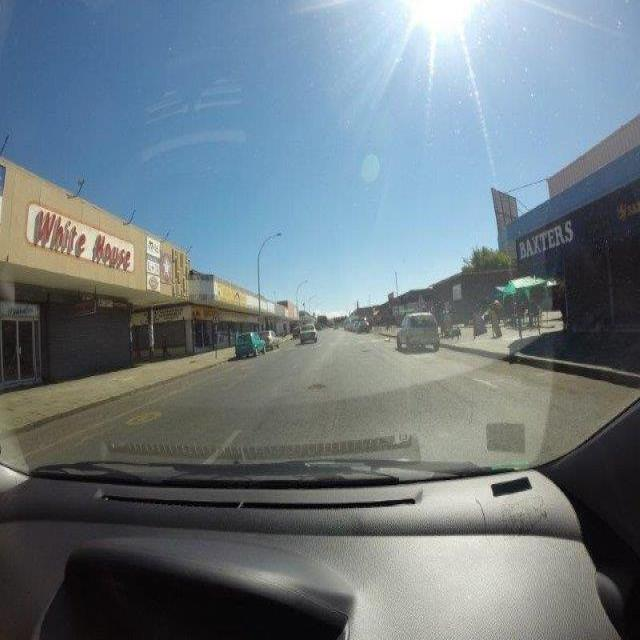lubang: (305, 380, 329, 393)
